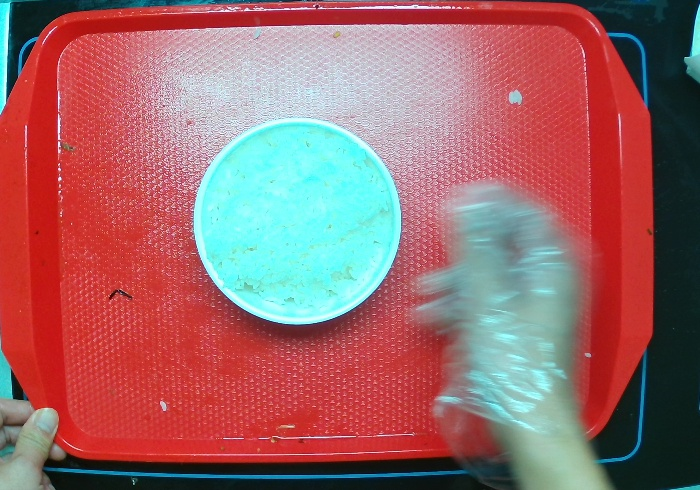YKMZ-Fan_Wan: (190, 114, 403, 327)
